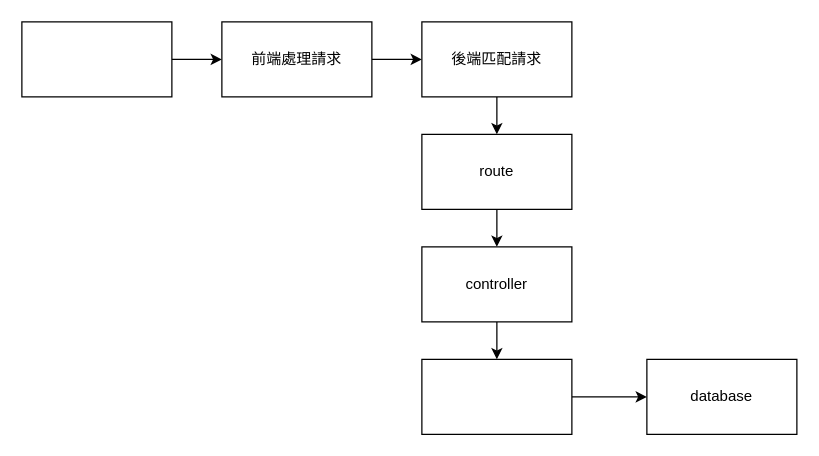
Image size: 819x456. Some labels were removed from this diagram. Here are the shapes that lost their labels. From the top down, the box of each, then its label:
(21, 21, 172, 97): 用戶端介面
(421, 358, 572, 434): service
